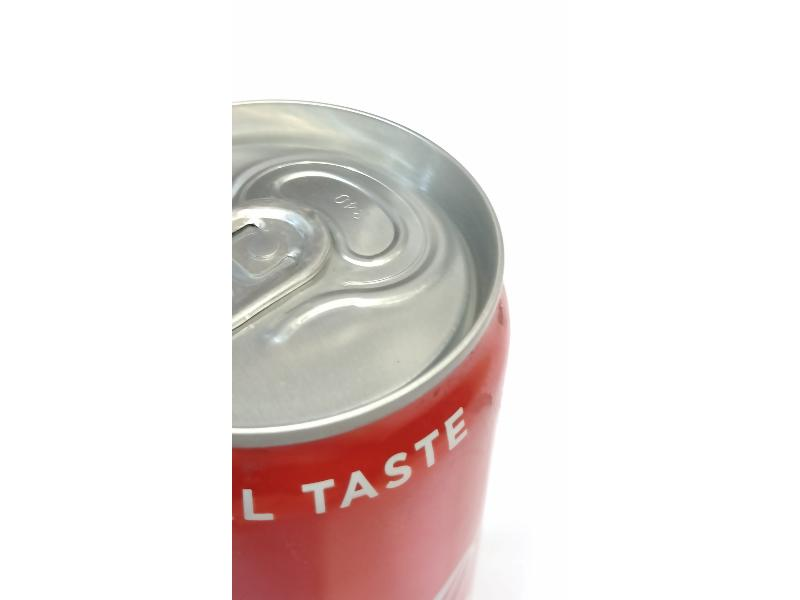can: (234, 96, 514, 600)
